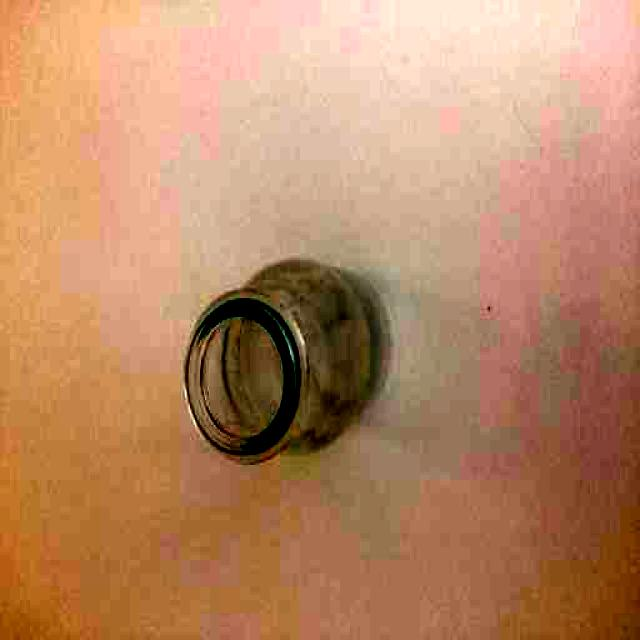Glass: (184, 260, 390, 463)
